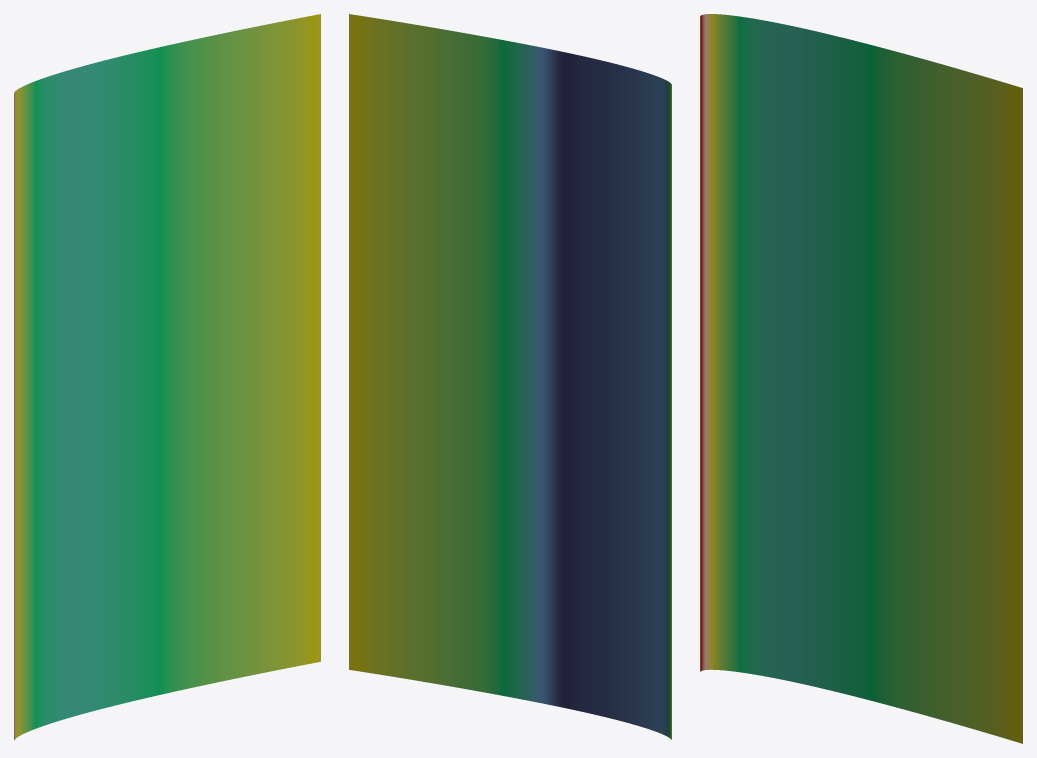
The model's file is morphing_wing_29.glb.
3 renders of one model, left to right at view 1: azimuth 30°, elevation 25°; view 2: azimuth 150°, elevation 25°; view 3: azimuth 330°, elevation 25°, orthographic.
Visible parts, largest first — view 1: part_0_0; view 2: part_0_0; view 3: part_0_0.
Boxes of the visible parts, left/top/right/bottom form: part_0_0: left=14, top=14, right=320, bottom=740; part_0_0: left=349, top=14, right=671, bottom=739; part_0_0: left=700, top=14, right=1022, bottom=743.
Bounding box in the file's own units: 1.01 × 2 × 0.1227.
